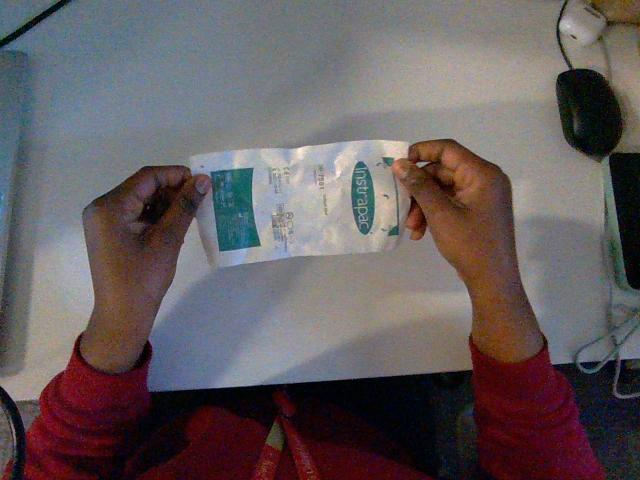gallipot: (190, 140, 410, 266)
